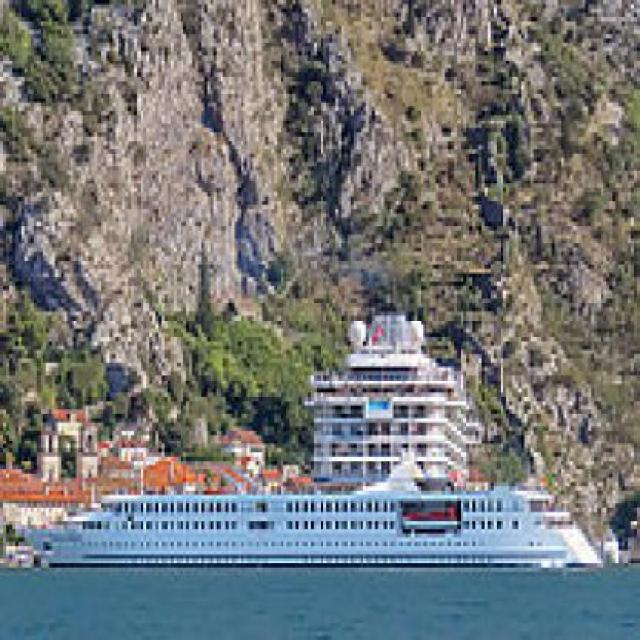cruise: (25, 457, 611, 590)
